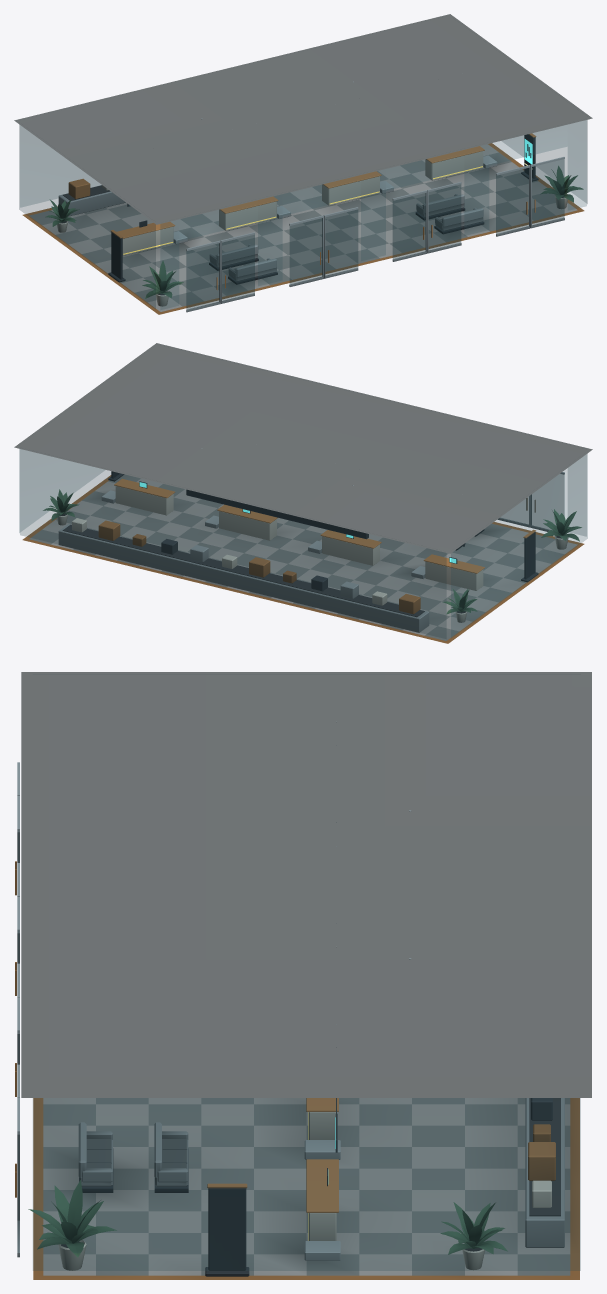
Rendered from lobby-missions.lod0.glb.
3 views of the same model, one above another, from view 1: azimuth 30°, elevation 25°; view 2: azimuth 150°, elevation 25°; view 3: azimuth 270°, elevation 25° (orthographic). The views are drawn at different scales.
Visible parts, largest first — view 1: structure, door_2_l, door_3_l, door_3_r, door_0_l, door_0_r, door_1_r, door_1_l, door_2_r, foliage; view 2: structure, foliage, door_0_l, door_0_r; view 3: structure, foliage.
Part boxes in pixels (box(x1,y1,x2,y2)): structure: box(14, 14, 592, 314); door_2_l: box(392, 190, 427, 261); door_3_l: box(496, 165, 530, 236); door_3_r: box(530, 157, 564, 228); door_0_l: box(186, 240, 220, 312); door_0_r: box(220, 232, 254, 303); door_1_r: box(323, 207, 358, 278); door_1_l: box(289, 215, 323, 286); door_2_r: box(427, 182, 461, 253); foliage: box(45, 166, 583, 298); structure: box(14, 343, 592, 643); foliage: box(43, 489, 581, 614); door_0_l: box(530, 472, 564, 532); door_0_r: box(497, 495, 530, 527); structure: box(21, 672, 591, 1279); foliage: box(28, 1180, 507, 1257).
Bounding box in the file's own units: 25.38 × 5.22 × 14.53.
